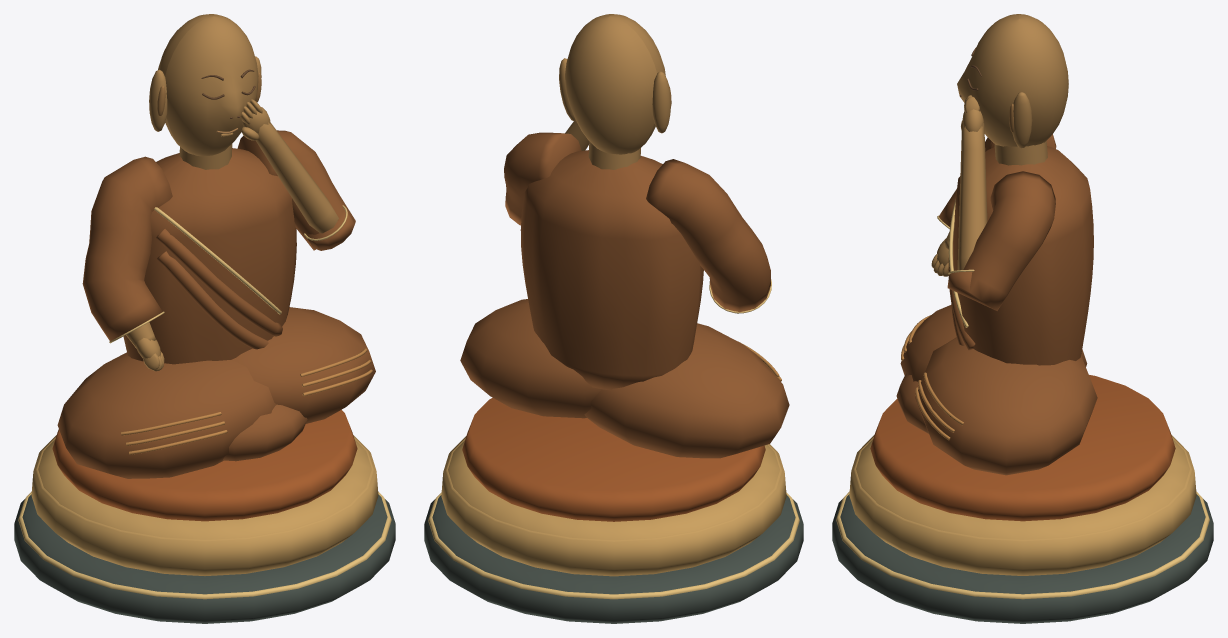
File: arhat_04_lod1.glb
3 views of the same model, side by side, from view 1: azimuth 30°, elevation 25°; view 2: azimuth 150°, elevation 25°; view 3: azimuth 270°, elevation 25° (orthographic).
Parts seen in each view (by area): view 1: arhat_04_ArhatDrapery, arhat_04_AntiqueGold, arhat_04_CarvedPlinth, arhat_04_WarmBronze, arhat_04_SaffronDrapery, arhat_04_RaisedGoldBorders, arhat_04_DraperyFoldHighlights; view 2: arhat_04_ArhatDrapery, arhat_04_SaffronDrapery, arhat_04_AntiqueGold, arhat_04_CarvedPlinth, arhat_04_WarmBronze, arhat_04_RaisedGoldBorders; view 3: arhat_04_ArhatDrapery, arhat_04_SaffronDrapery, arhat_04_AntiqueGold, arhat_04_CarvedPlinth, arhat_04_WarmBronze, arhat_04_RaisedGoldBorders, arhat_04_DraperyFoldHighlights.
Part boxes in pixels (left/top/right/bottom): arhat_04_ArhatDrapery: left=57, top=130, right=375, bottom=478; arhat_04_AntiqueGold: left=31, top=435, right=378, bottom=575; arhat_04_CarvedPlinth: left=14, top=494, right=395, bottom=623; arhat_04_WarmBronze: left=126, top=14, right=338, bottom=371; arhat_04_SaffronDrapery: left=52, top=410, right=357, bottom=521; arhat_04_RaisedGoldBorders: left=18, top=205, right=391, bottom=599; arhat_04_DraperyFoldHighlights: left=121, top=348, right=372, bottom=454; arhat_04_ArhatDrapery: left=460, top=132, right=789, bottom=458; arhat_04_SaffronDrapery: left=462, top=397, right=765, bottom=521; arhat_04_AntiqueGold: left=441, top=436, right=786, bottom=576; arhat_04_CarvedPlinth: left=424, top=495, right=803, bottom=623; arhat_04_WarmBronze: left=559, top=14, right=738, bottom=313; arhat_04_RaisedGoldBorders: left=428, top=279, right=799, bottom=599; arhat_04_ArhatDrapery: left=896, top=134, right=1097, bottom=475; arhat_04_SaffronDrapery: left=870, top=375, right=1175, bottom=521; arhat_04_AntiqueGold: left=849, top=435, right=1196, bottom=575; arhat_04_CarvedPlinth: left=832, top=494, right=1213, bottom=623; arhat_04_WarmBronze: left=931, top=14, right=1068, bottom=276; arhat_04_RaisedGoldBorders: left=836, top=199, right=1209, bottom=599; arhat_04_DraperyFoldHighlights: left=901, top=315, right=963, bottom=440.
Size of the model in its own units: 0.92 by 1.42 by 0.92.
